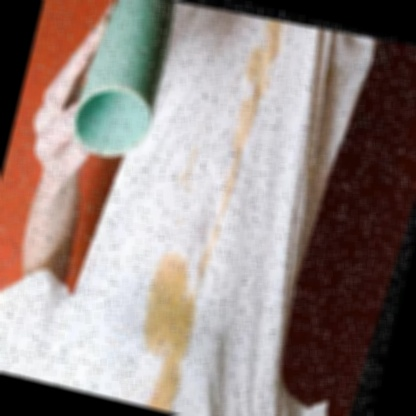coffee: (133, 249, 210, 364), (214, 98, 258, 216), (236, 19, 286, 97), (150, 364, 183, 413)
